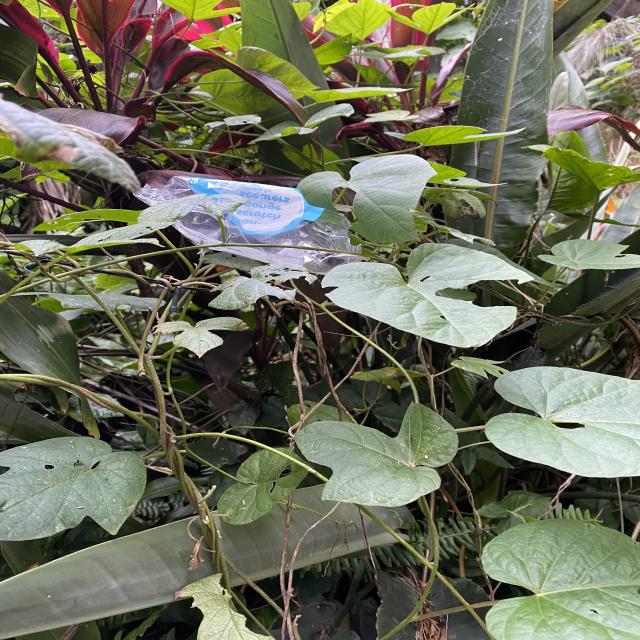wrappers: (132, 175, 371, 273)
